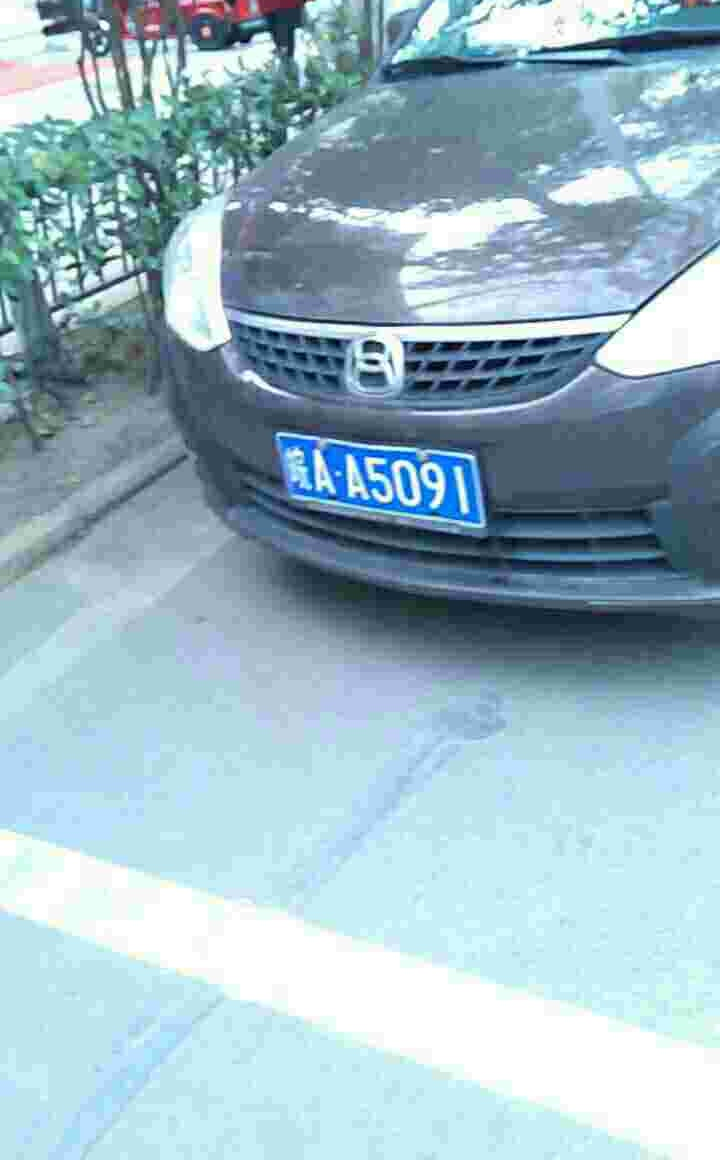plate: (271, 427, 490, 531)
